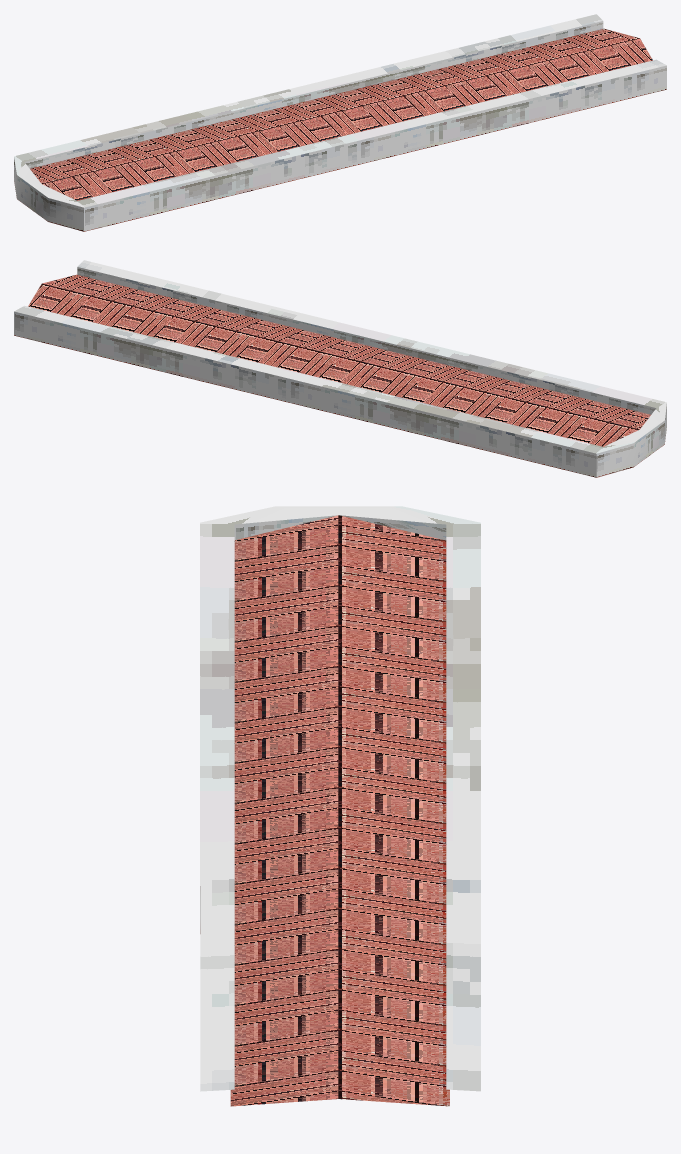
Rendered from Environment - Prop - Mdn BRK 01 - PMMdnBRK01_E.glb.
3 renders of one model, top to bottom at view 1: azimuth 30°, elevation 25°; view 2: azimuth 150°, elevation 25°; view 3: azimuth 270°, elevation 25°, orthographic. The views are drawn at different scales.
Parts seen in each view (by area): view 1: PMMDNBRK01_E; view 2: PMMDNBRK01_E; view 3: PMMDNBRK01_E.
Part boxes in pixels (x1,y1,x2,y2): PMMDNBRK01_E: (14,14,666,231); PMMDNBRK01_E: (14,260,666,477); PMMDNBRK01_E: (200,506,480,1106).
Bounding box in the file's own units: 62.93 × 2.39 × 12.6.
Materials: 1 (1 with a texture image).
